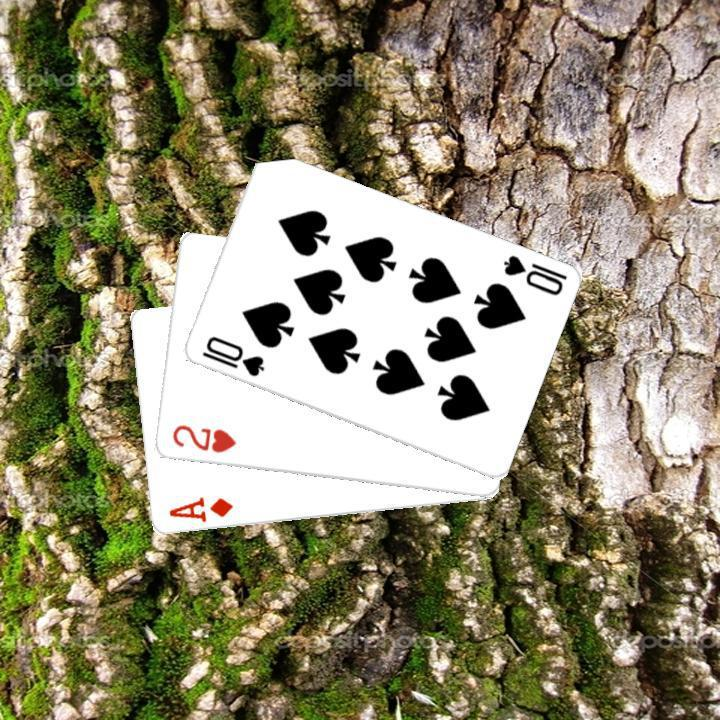10: (497, 251, 568, 298), (197, 332, 266, 379)
2: (167, 421, 238, 456)
A: (164, 493, 234, 525)
